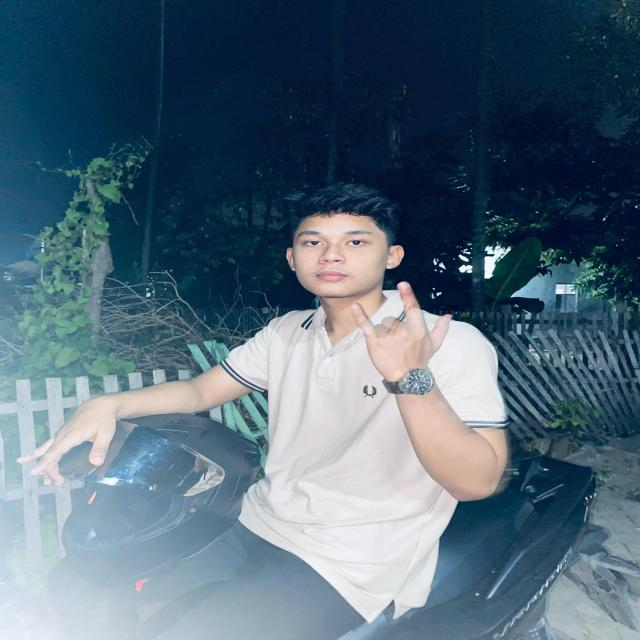nohelmet: (277, 178, 404, 307)
